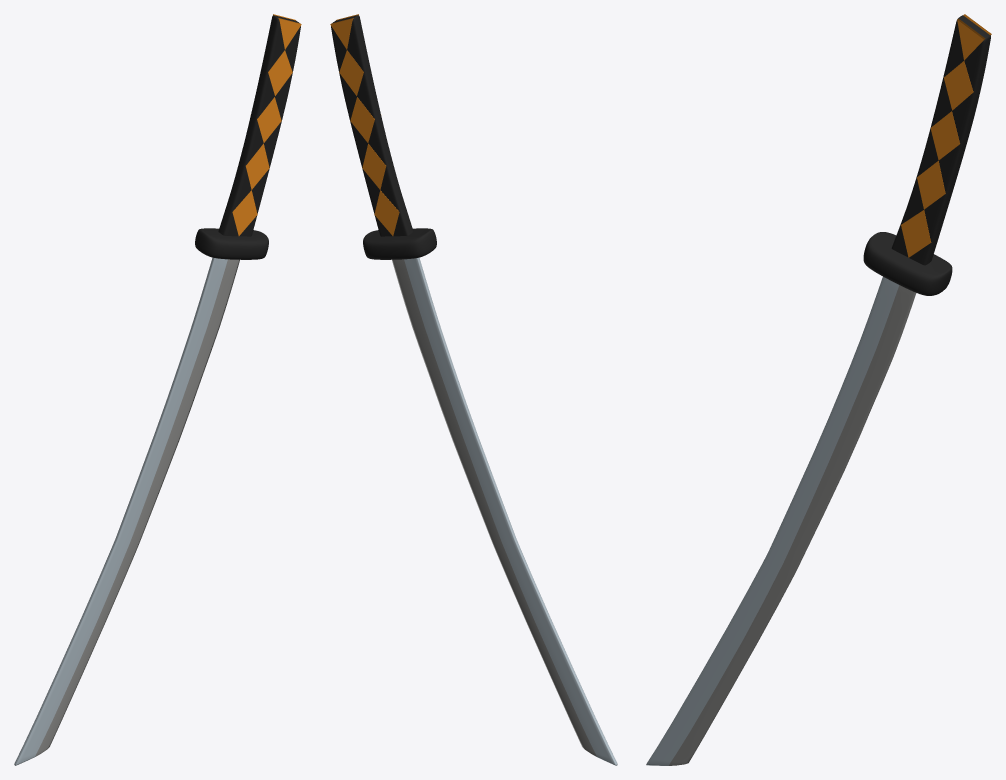
Rendered from samurai_jack_sword.glb.
3 views of the same model, side by side, from view 1: azimuth 30°, elevation 25°; view 2: azimuth 150°, elevation 25°; view 3: azimuth 330°, elevation 25° (orthographic). The views are drawn at different scales.
Visible parts, largest first — view 1: Box001; view 2: Box001; view 3: Box001.
Part boxes in pixels (<box>): Box001: <box>14,14,301,765</box>; Box001: <box>330,14,617,765</box>; Box001: <box>646,14,991,765</box>.
Bounding box in the file's own units: 346 × 798 × 46.15.
1 material, 1 textured.
